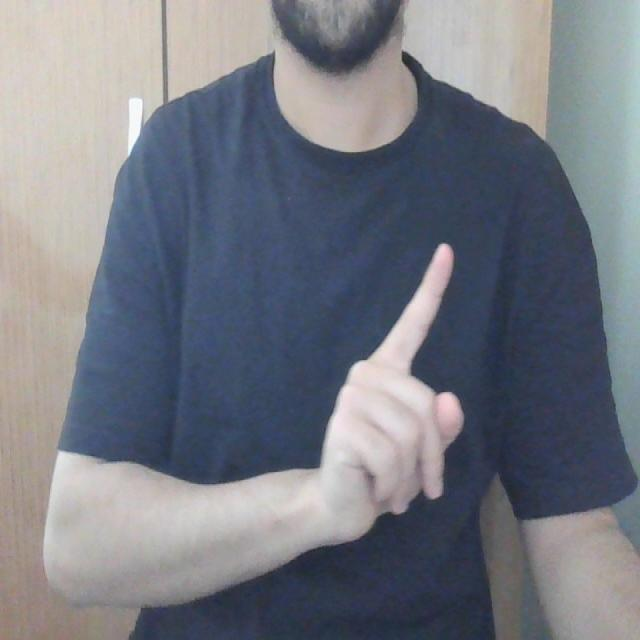Hayir: (315, 176, 472, 578)
